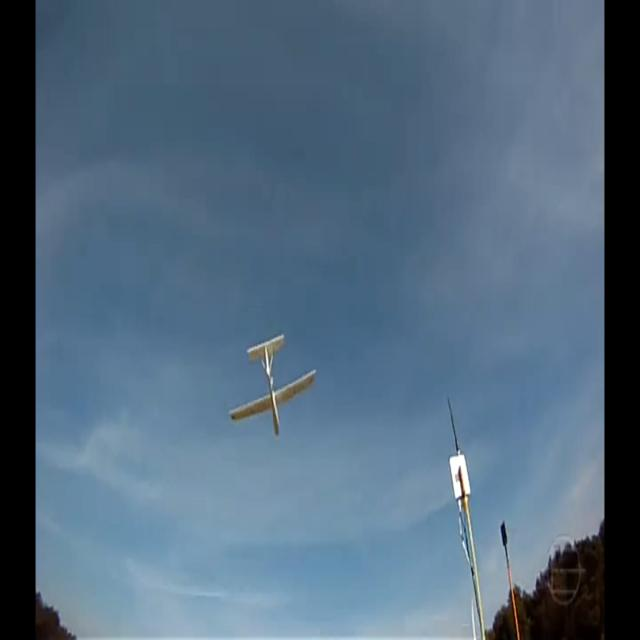iha: (259, 362, 285, 407)
